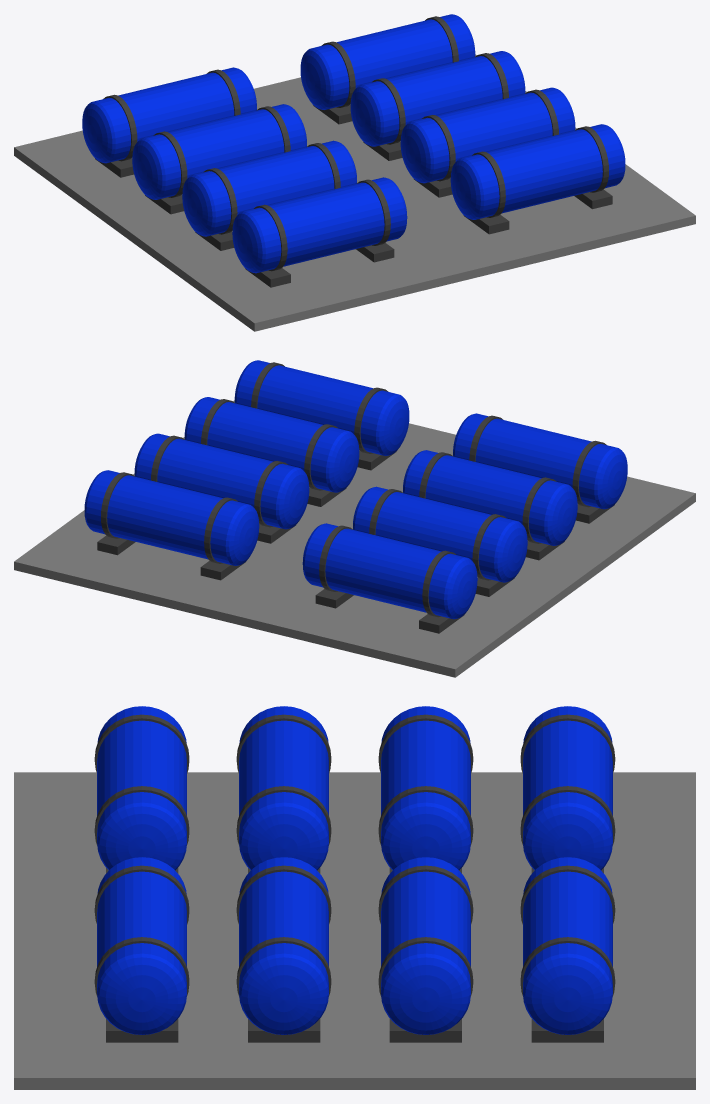
The model's file is WaterContainers.fbx.
The picture shows the model from 3 angles, top to bottom: view 1: azimuth 30°, elevation 25°; view 2: azimuth 150°, elevation 25°; view 3: azimuth 270°, elevation 25°; orthographic projection. The views are drawn at different scales.
Visible parts, largest first — view 1: Cylinder; view 2: Cylinder; view 3: Cylinder.
Part boxes in pixels (x1,y1,x2,y2): Cylinder: [14, 14, 695, 331]; Cylinder: [14, 360, 695, 677]; Cylinder: [14, 706, 695, 1089].
Bounding box in the file's own units: 1608 × 267 × 1517.
